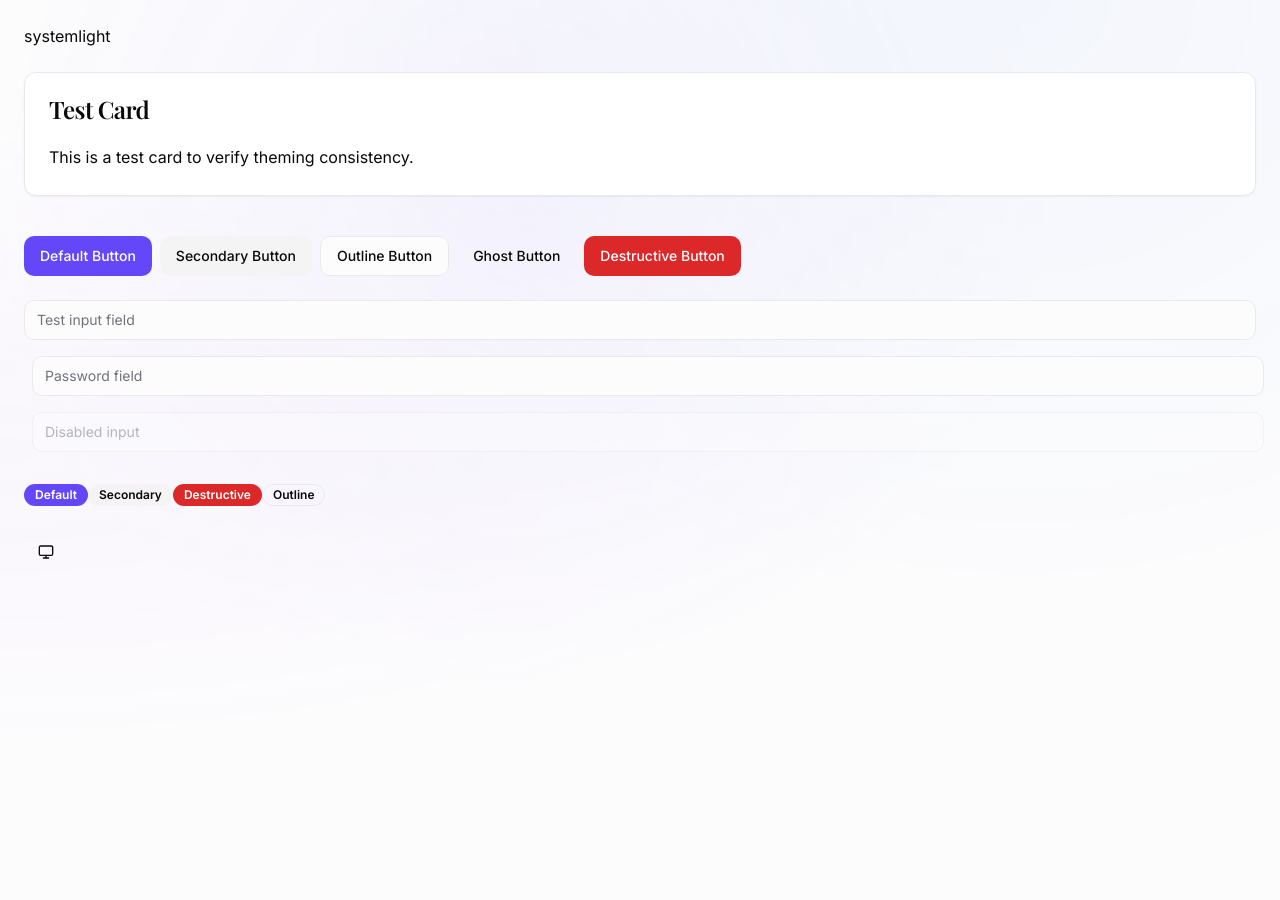
it: Theme Visual Regression Tests › Theme Application Consistency › applies light theme classes consistently
Note: Switch to light theme explicitly
Click the button named "theme selector" at (46, 552), box [24, 530, 68, 574]
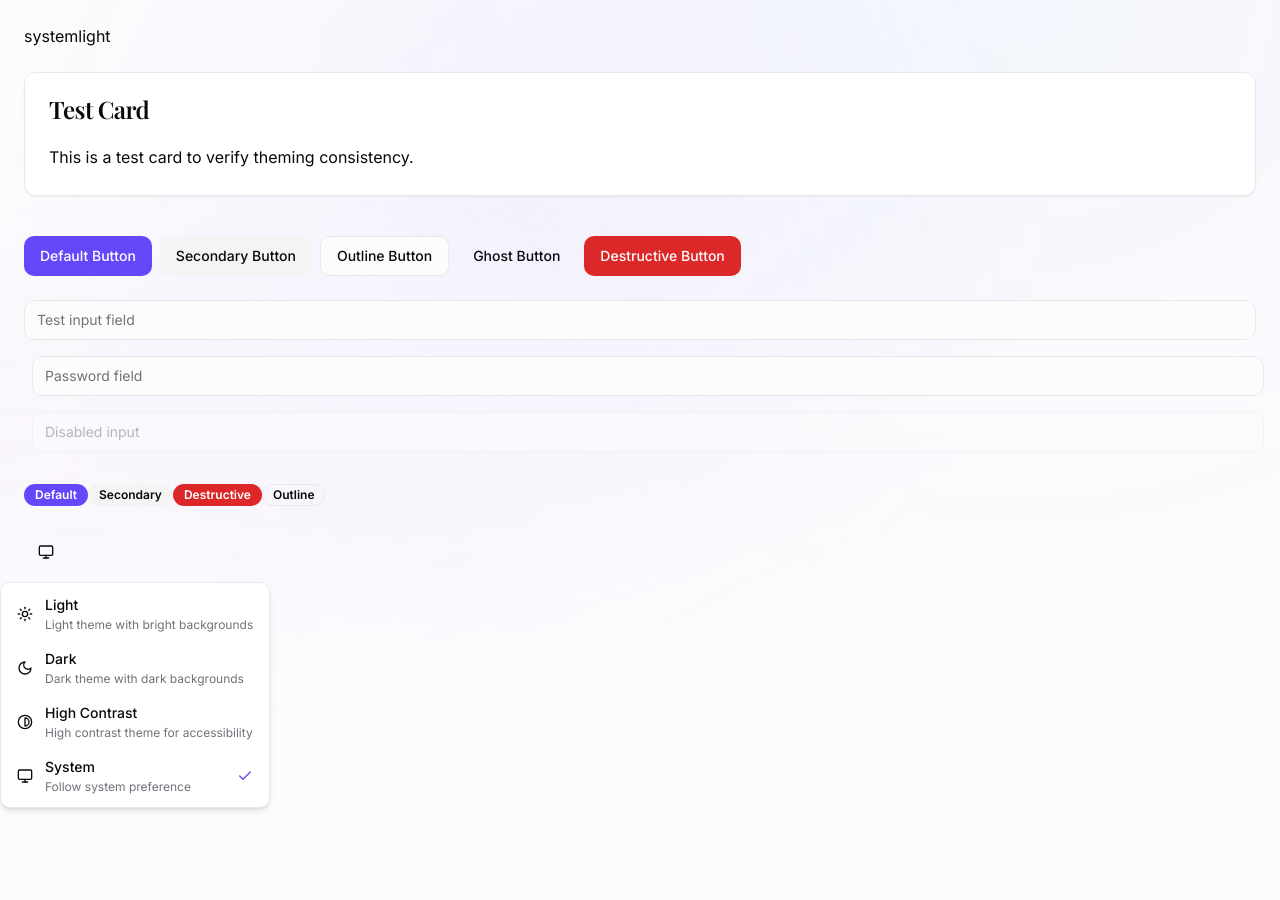
Click the menu item "Light Light theme with bright backgrounds" at (135, 614), box [5, 587, 265, 641]
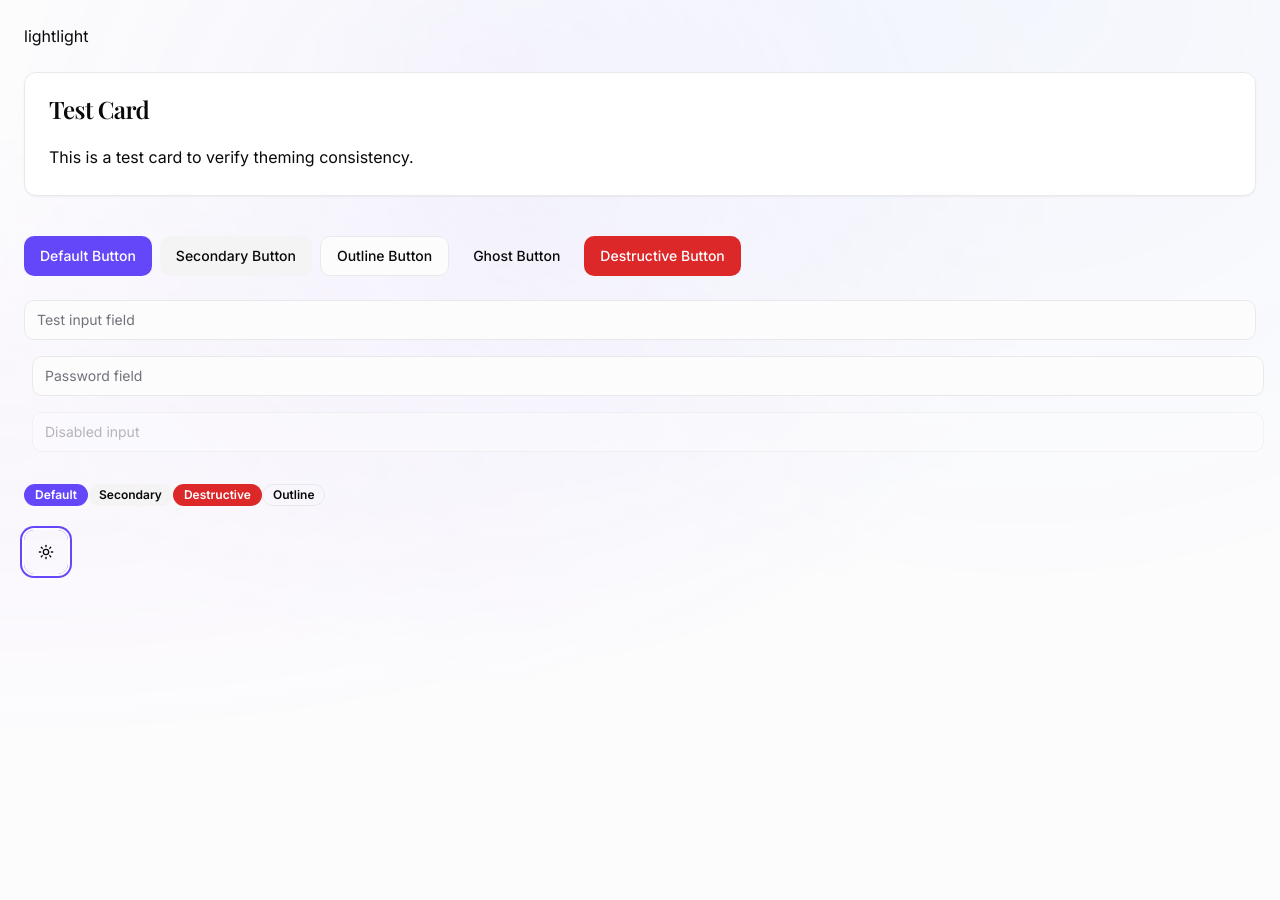
Expected: the text with test id "resolved-theme" reads "light", [56, 26, 89, 46]
Expected: the text with test id "current-theme" reads "light", [24, 26, 56, 46]
